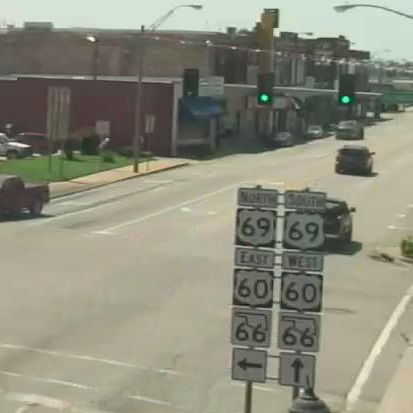vehicle: (0, 165, 56, 230), (296, 198, 362, 246), (334, 138, 380, 178), (14, 130, 60, 155), (330, 113, 368, 141), (0, 131, 35, 160), (269, 128, 295, 148), (305, 121, 326, 139)
